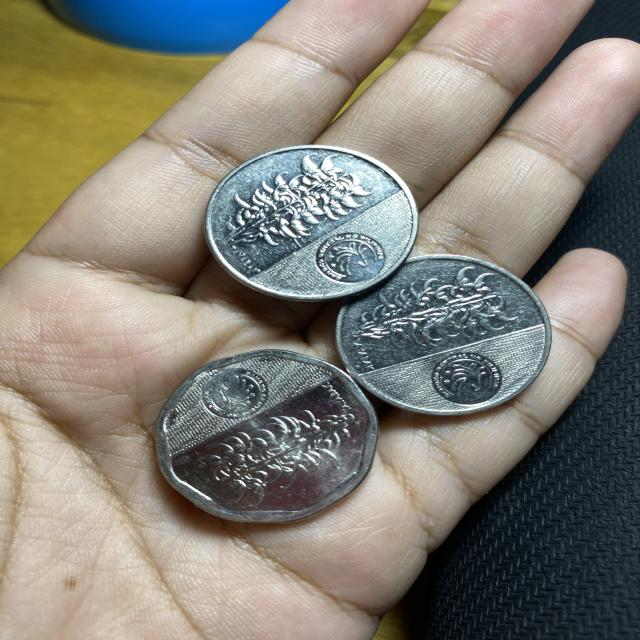5_New_Back: (228, 147, 382, 254), (203, 404, 359, 506), (367, 269, 519, 360)
